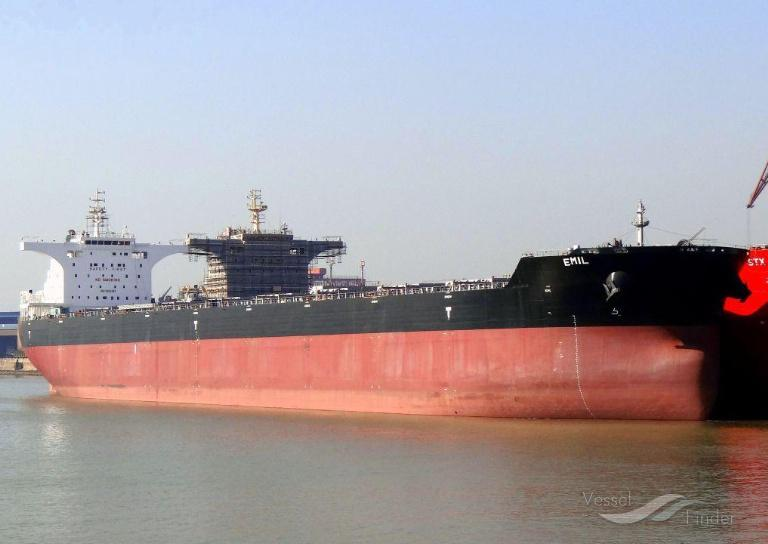OCR: (556, 253, 594, 271)
